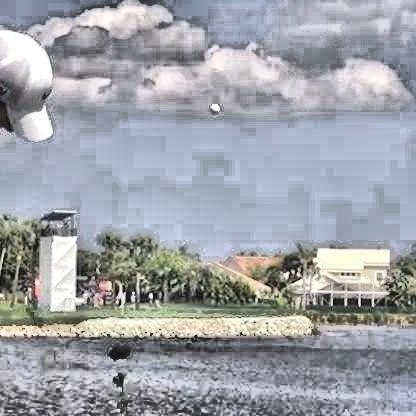golfball: (206, 99, 217, 111)
